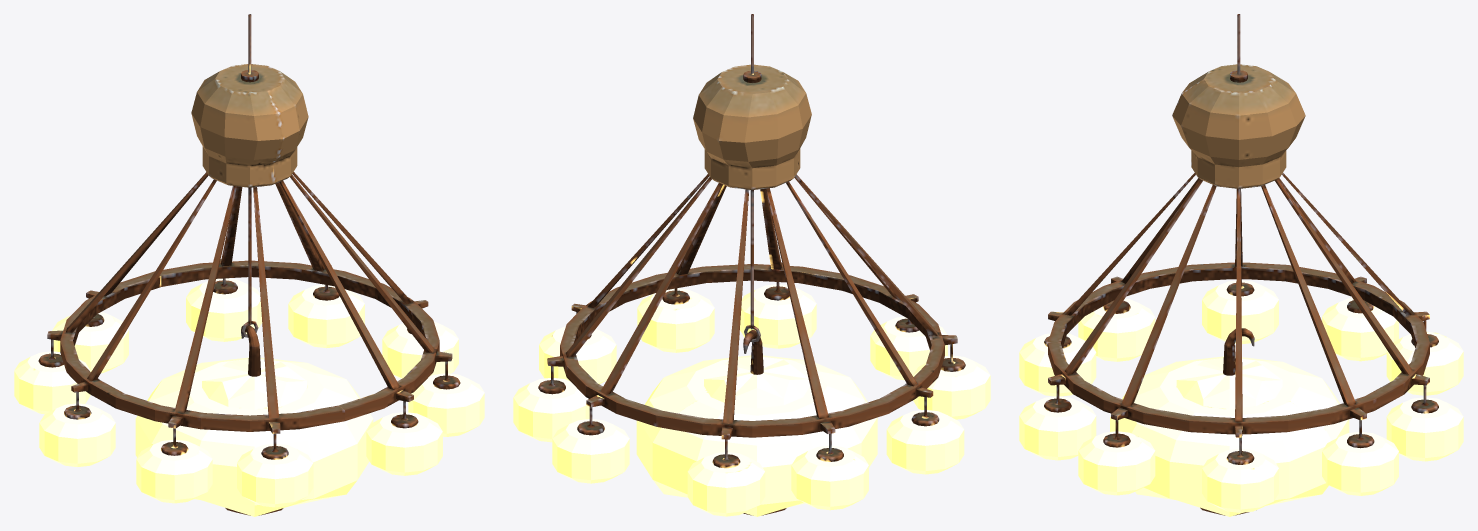
The model's file is Chandelier.fbx.
3 views of the same model, side by side, from view 1: azimuth 30°, elevation 25°; view 2: azimuth 150°, elevation 25°; view 3: azimuth 270°, elevation 25° (orthographic).
Parts seen in each view (by area): view 1: Chandelier; view 2: Chandelier; view 3: Chandelier.
Part boxes in pixels (<box>): Chandelier: <box>14,14,484,516</box>; Chandelier: <box>513,14,990,516</box>; Chandelier: <box>1019,14,1463,516</box>.
Bounding box in the file's own units: 249 × 287 × 232.
Materials: 1 (1 with a texture image).
